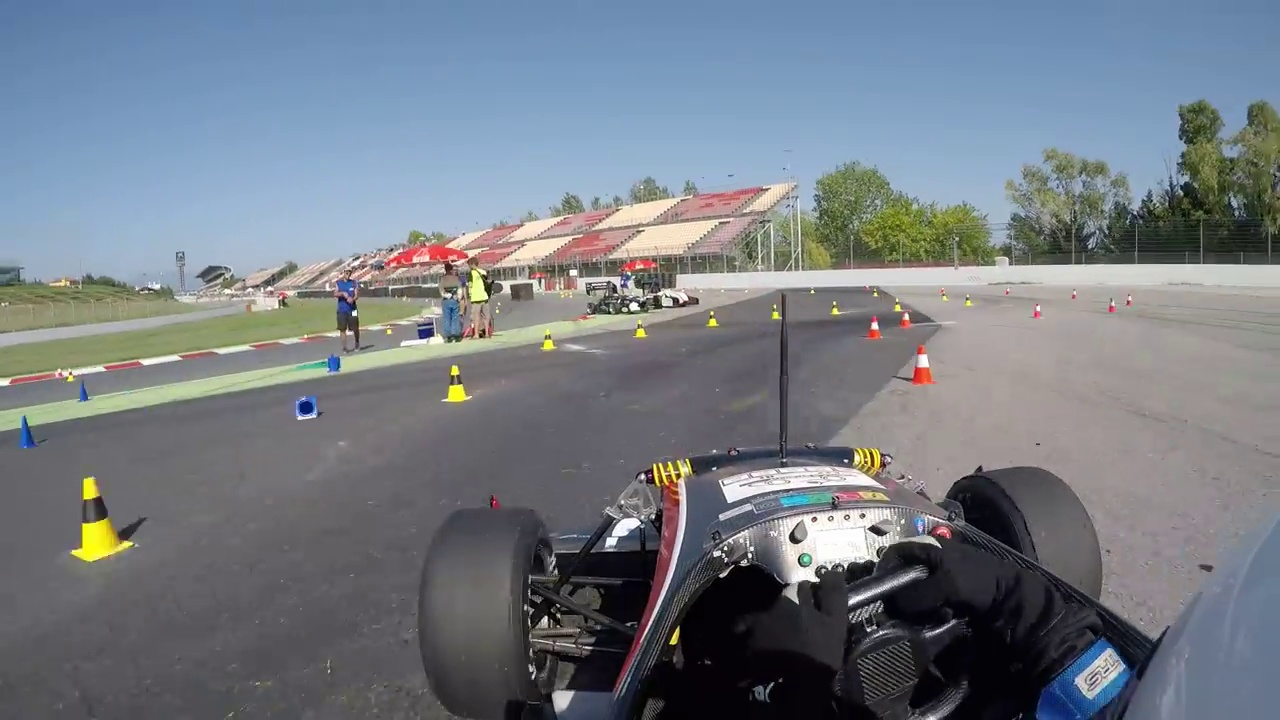Cone: (71, 473, 129, 563), (444, 364, 471, 404), (908, 343, 932, 386)
